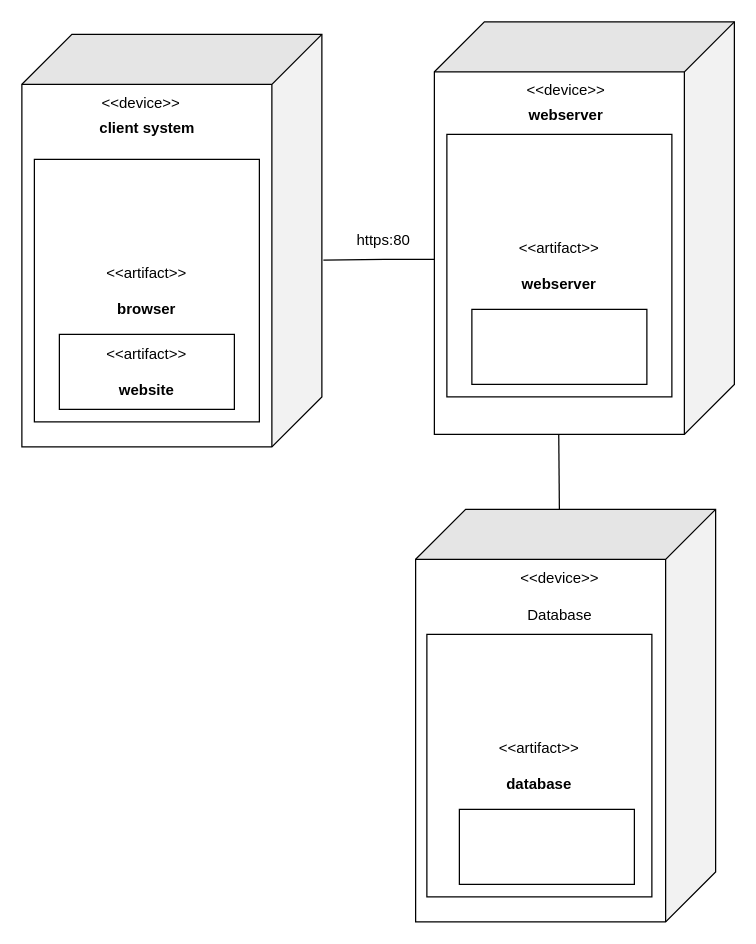
This 756x944 diagram has some shape labels left out. Here are the shapes that lost their labels. From the top down, the centre of each, then its label:
At (x=559, y=346): "<<artifact>> weblink".
At (x=546, y=846): "<<artifact>> oracle".
